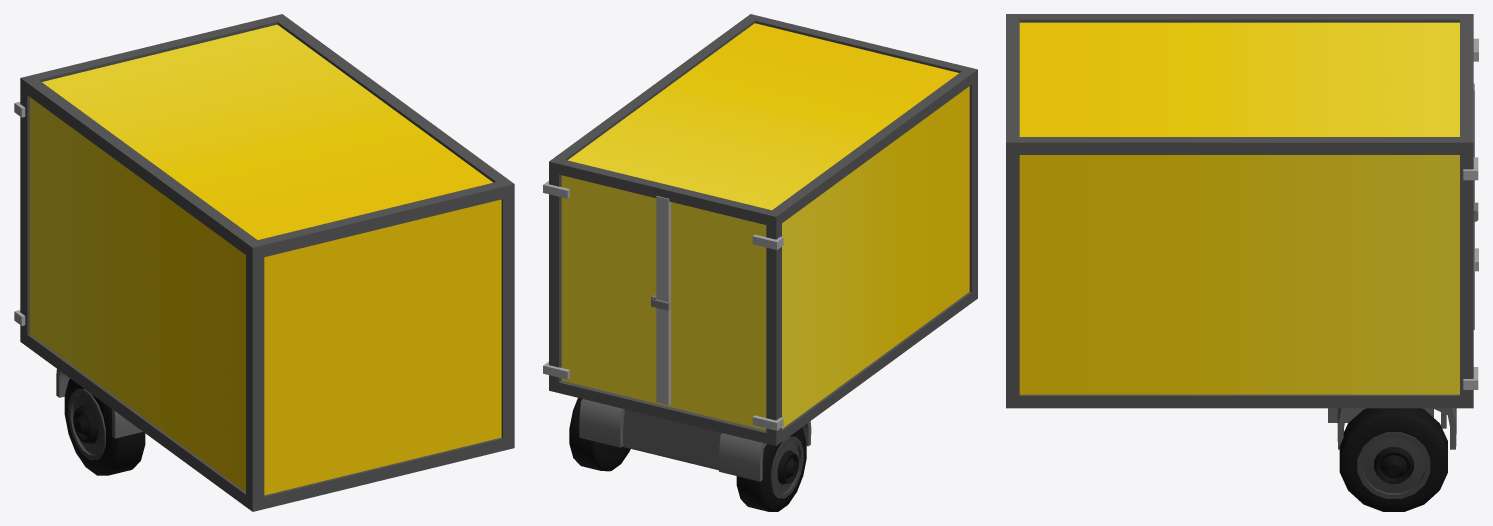
File: Trailer_1_lvl1.fbx
The picture shows the model from 3 angles, left to right: view 1: azimuth 30°, elevation 25°; view 2: azimuth 150°, elevation 25°; view 3: azimuth 270°, elevation 25°; orthographic projection. The views are drawn at different scales.
Parts seen in each view (by area): view 1: Box052, R3_046; view 2: Box052, R3_046, R3_047; view 3: Box052, R3_047.
Part boxes in pixels (bbox=[...]): Box052: bbox=[14, 14, 514, 511]; R3_046: bbox=[64, 378, 145, 475]; Box052: bbox=[543, 14, 977, 481]; R3_046: bbox=[736, 427, 806, 511]; R3_047: bbox=[569, 398, 630, 471]; Box052: bbox=[1006, 14, 1478, 449]; R3_047: bbox=[1339, 408, 1447, 511].
Bounding box in the file's own units: 3865 × 5107 × 5829.
